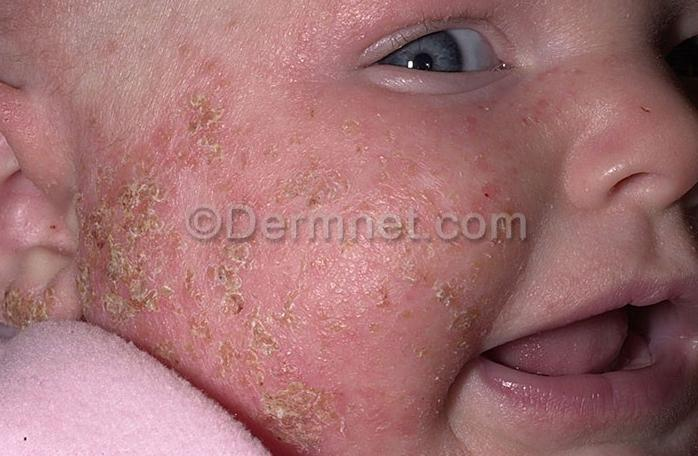Eritema 2: (66, 71, 496, 456)
exudacion 3: (4, 68, 502, 454)
